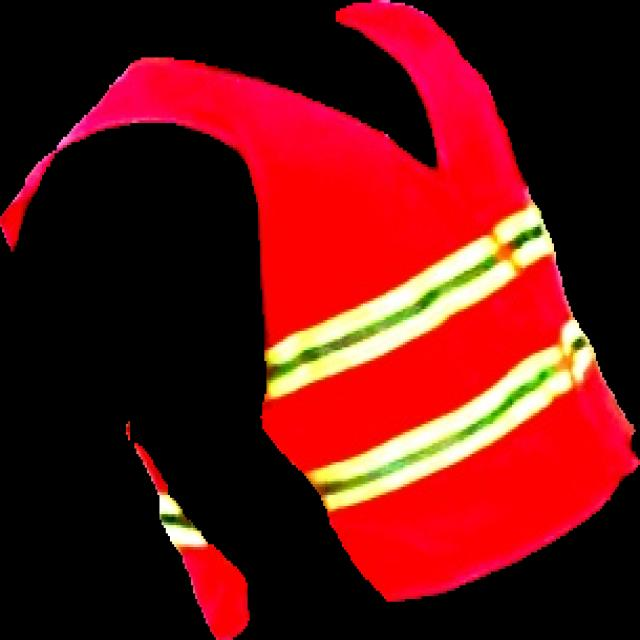Colete: (0, 0, 639, 601)
